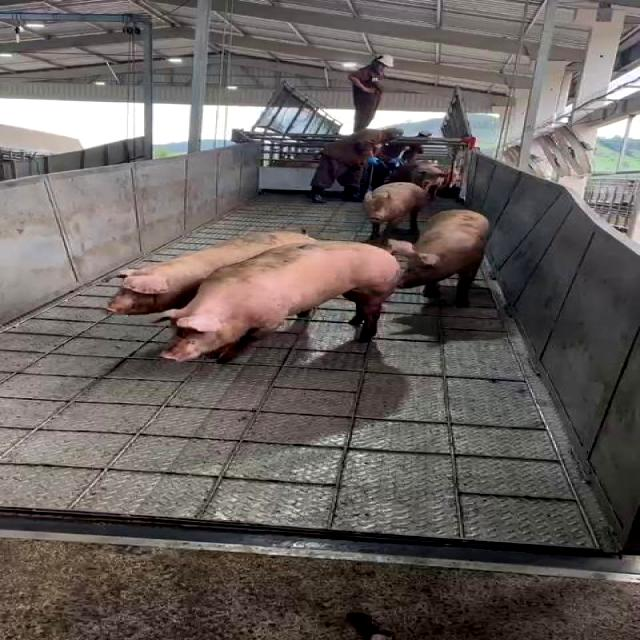pig: (156, 241, 399, 360), (108, 231, 315, 314), (389, 210, 489, 305), (364, 182, 426, 236)
